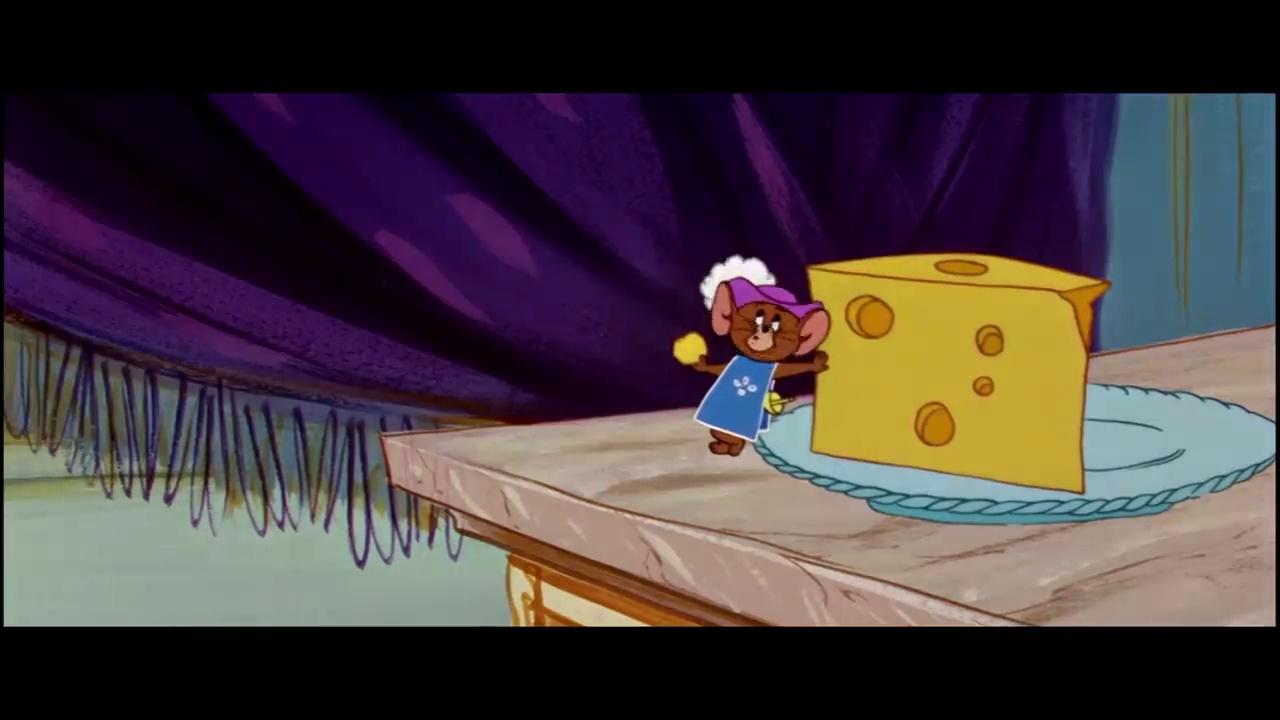Jerry: (688, 280, 832, 456)
